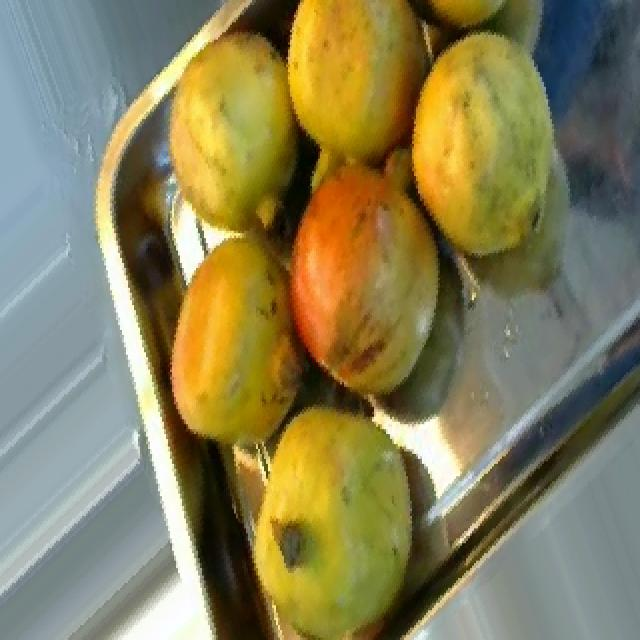fruit: (262, 148, 468, 432), (240, 377, 444, 640), (248, 0, 456, 208)
